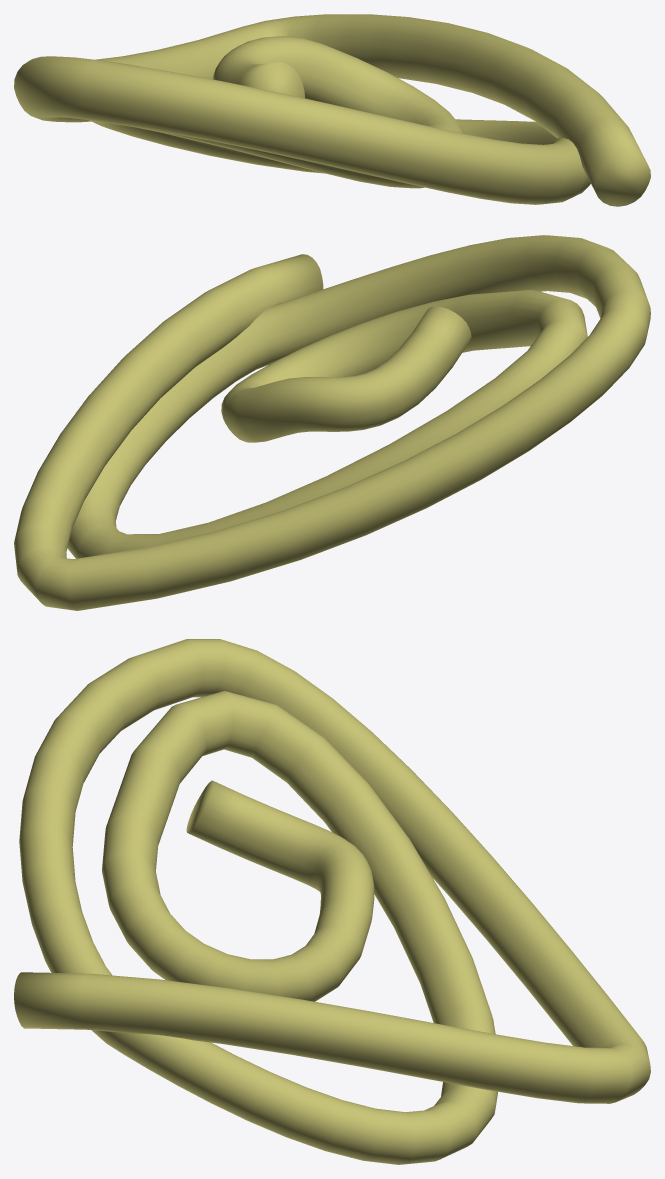
File: Corda.fbx
The picture shows the model from 3 angles, top to bottom: view 1: azimuth 30°, elevation 25°; view 2: azimuth 150°, elevation 25°; view 3: azimuth 270°, elevation 25°; orthographic projection. The views are drawn at different scales.
Visible parts, largest first — view 1: Corda; view 2: Corda; view 3: Corda.
Part boxes in pixels (x1=…): Corda: x1=14, y1=14, x2=650, y2=206; Corda: x1=14, y1=235, x2=650, y2=610; Corda: x1=14, y1=639, x2=650, y2=1164.
Size of the model in its own units: 35.29 by 19.36 by 36.65.
